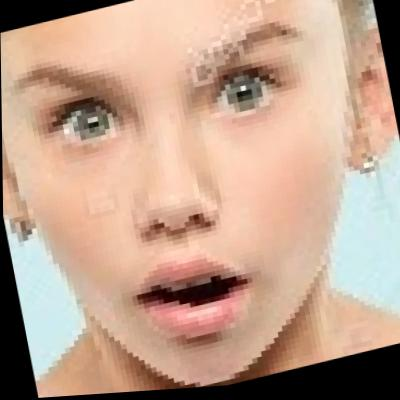surprise: (6, 0, 381, 400)
